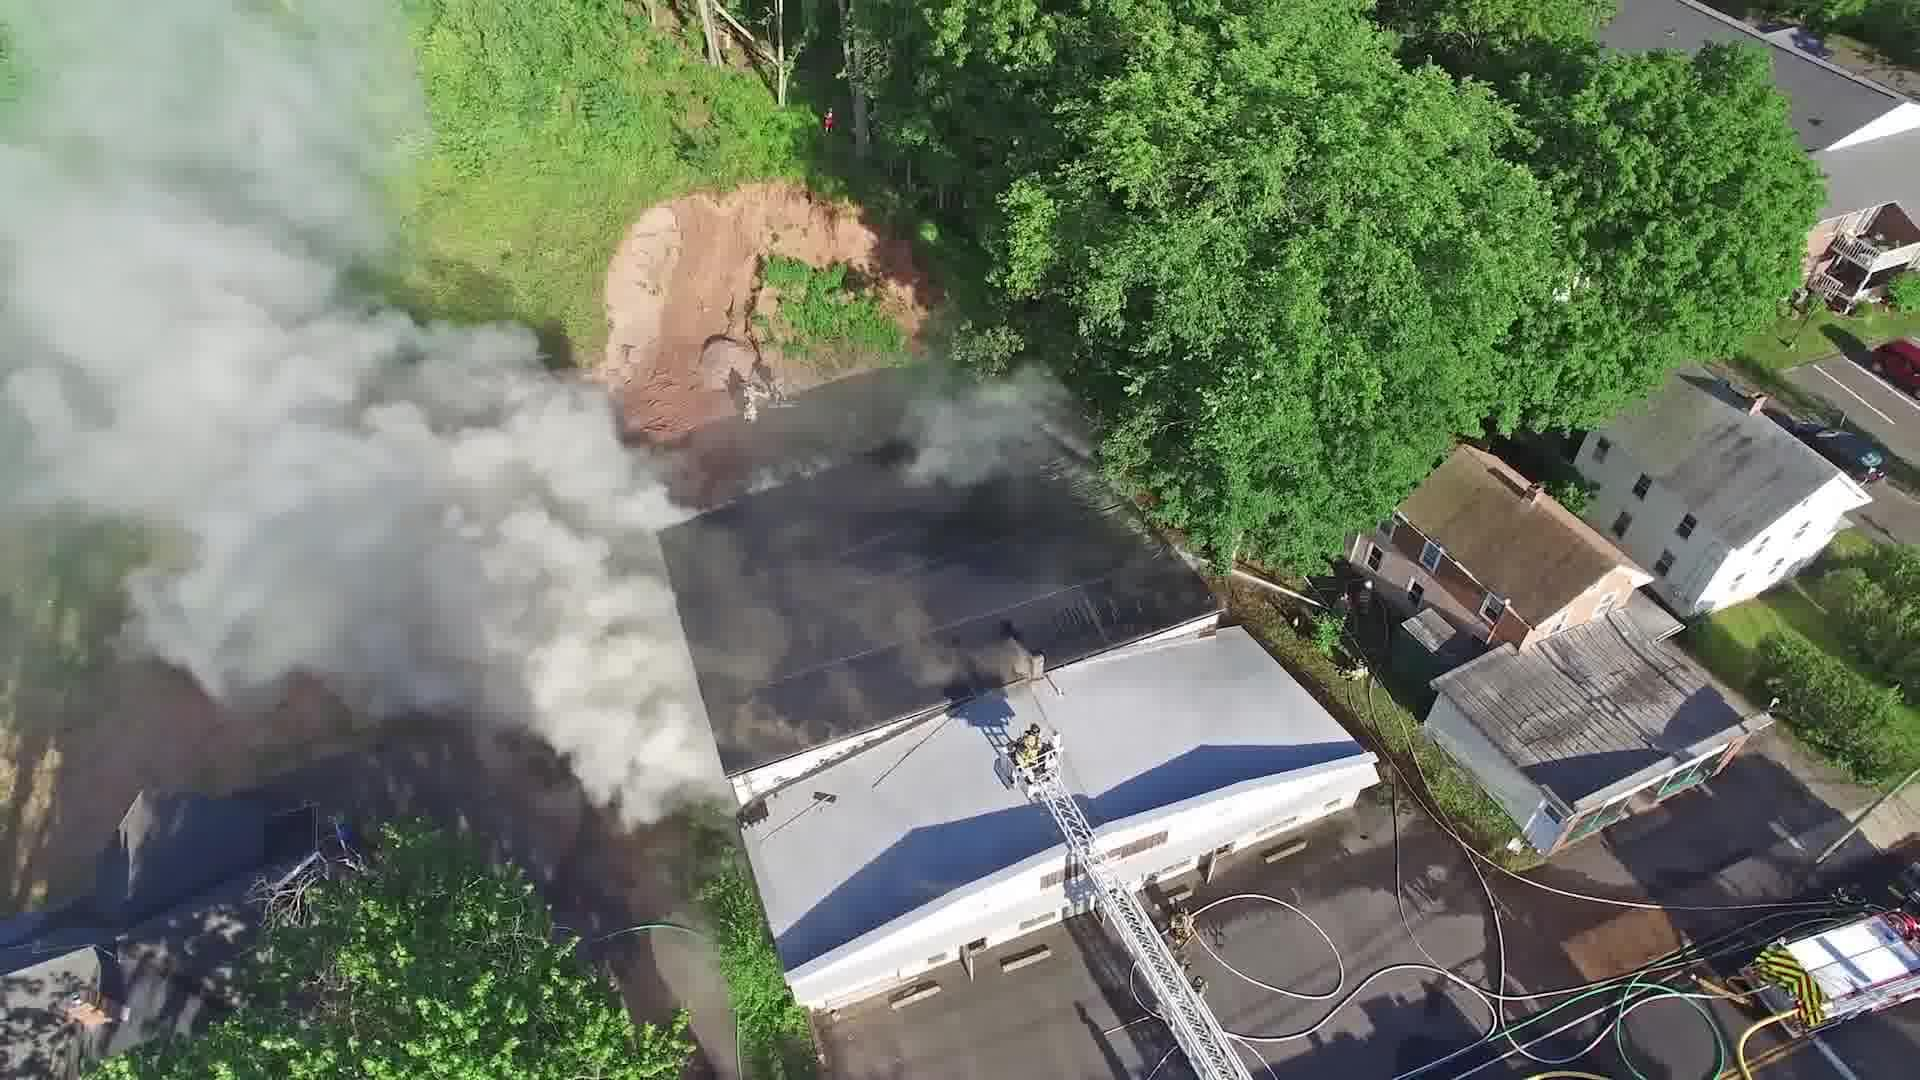smoke: (38, 92, 320, 580), (330, 412, 658, 708)
